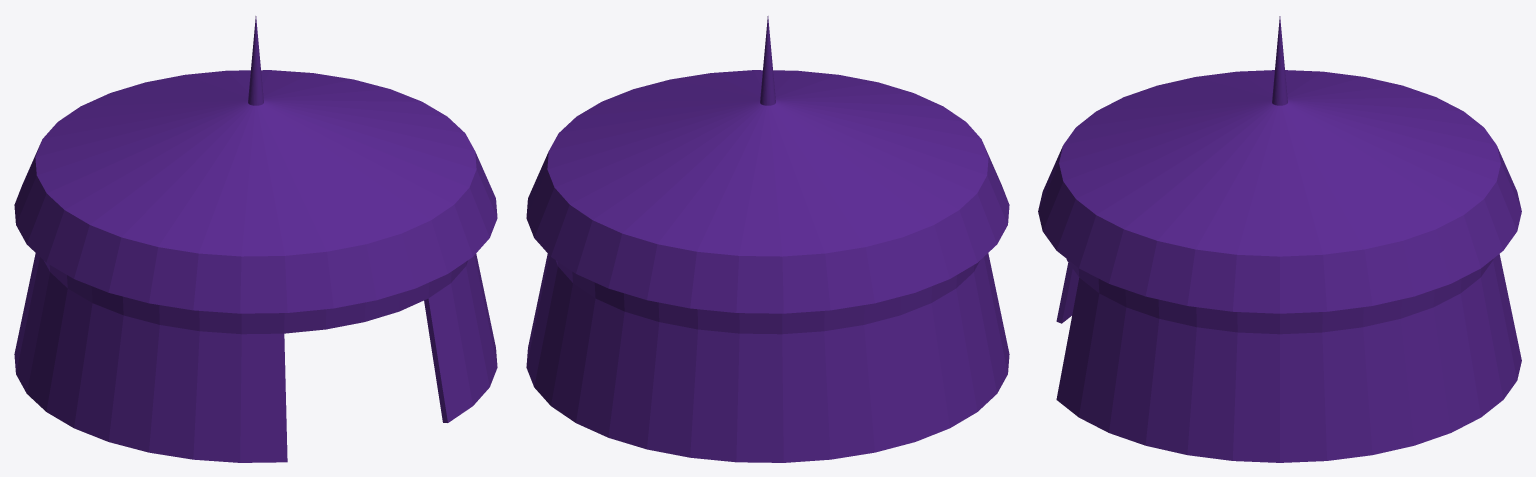
The model's file is tent.glb.
3 renders of one model, left to right at view 1: azimuth 30°, elevation 25°; view 2: azimuth 150°, elevation 25°; view 3: azimuth 270°, elevation 25°, orthographic.
Visible parts, largest first — view 1: Circle; view 2: Circle; view 3: Circle.
Part boxes in pixels (bbox=[...]): Circle: bbox=[14, 16, 497, 462]; Circle: bbox=[526, 16, 1009, 462]; Circle: bbox=[1038, 16, 1521, 462].
Size of what is drawn, in the model's own units: 13.19 by 10.46 by 13.19.
